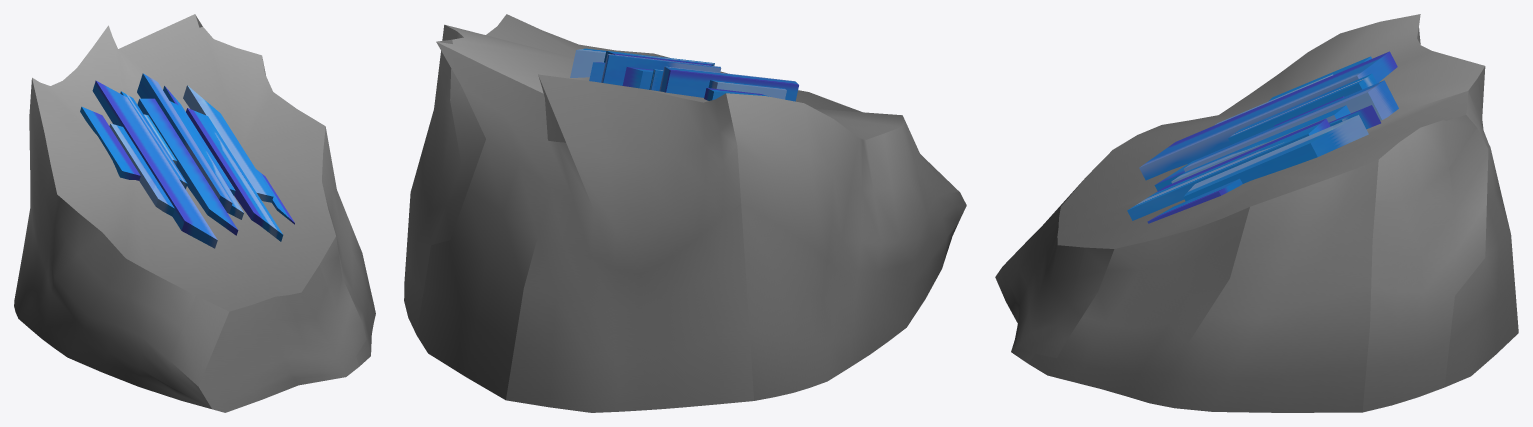
The model's file is Cyjant.fbx.
3 renders of one model, left to right at view 1: azimuth 30°, elevation 25°; view 2: azimuth 150°, elevation 25°; view 3: azimuth 270°, elevation 25°, orthographic. The views are drawn at different scales.
Visible parts, largest first — view 1: Skała, Kryształ; view 2: Skała, Kryształ; view 3: Skała, Kryształ.
Boxes of the visible parts, x1=… form: Skała: x1=14, y1=14, x2=375, y2=412; Kryształ: x1=80, y1=73, x2=294, y2=248; Skała: x1=404, y1=14, x2=966, y2=412; Kryształ: x1=570, y1=48, x2=798, y2=101; Skała: x1=995, y1=14, x2=1518, y2=412; Kryształ: x1=1127, y1=51, x2=1398, y2=223.
Bounding box in the file's own units: 43.07 × 30.57 × 55.33.
